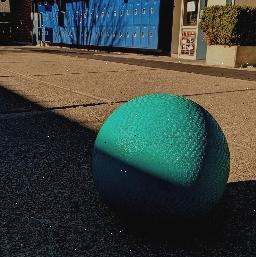algae: (90, 90, 232, 221)
